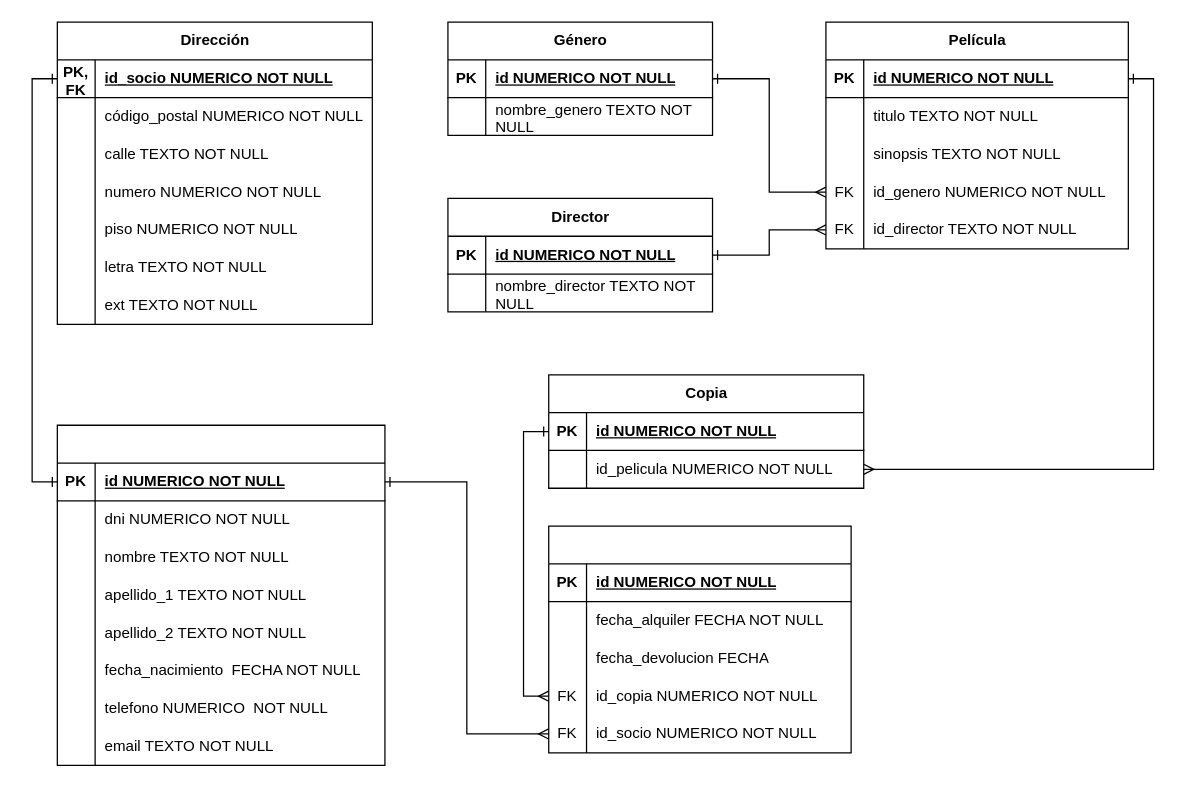
Some shapes in this 1187 by 788 pixel diagram are drawn without their labels. Each missing label, with the box of its shape:
Préstamo: (547, 525, 851, 753)
Socio: (56, 424, 385, 765)
